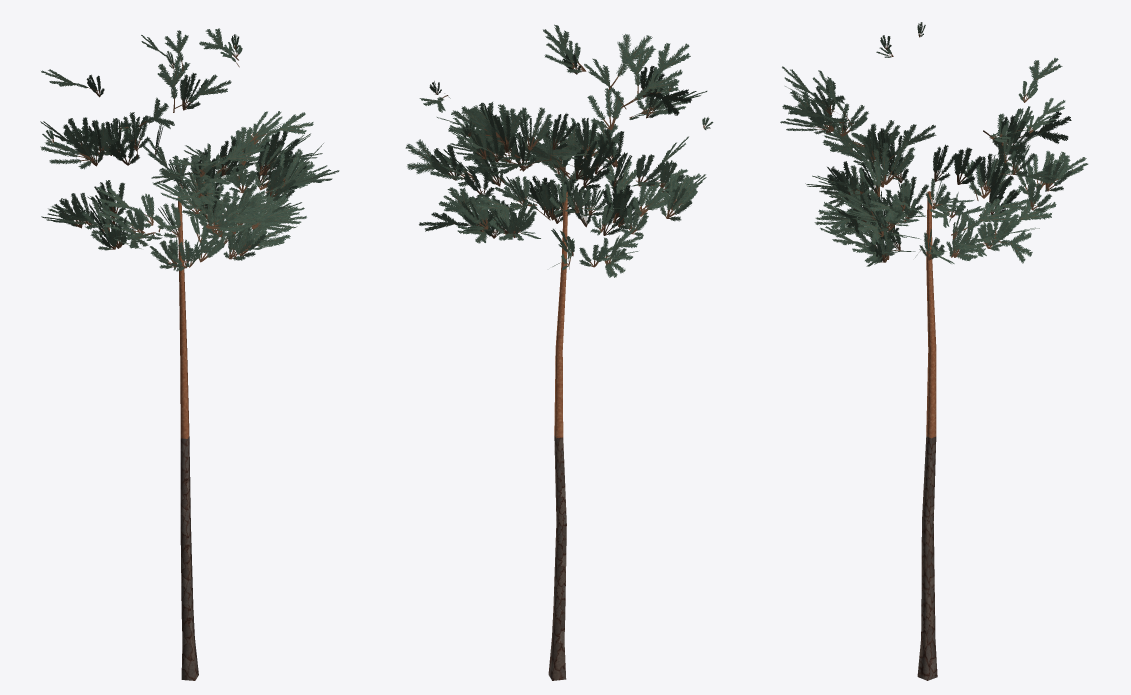
Rendered from pine_c_LOD2.fbx.
3 views of the same model, side by side, from view 1: azimuth 30°, elevation 25°; view 2: azimuth 150°, elevation 25°; view 3: azimuth 270°, elevation 25° (orthographic).
Parts seen in each view (by area): view 1: Pine_C_LOD2_Foliage, Pine_C_LOD2_Bark; view 2: Pine_C_LOD2_Foliage, Pine_C_LOD2_Bark; view 3: Pine_C_LOD2_Foliage, Pine_C_LOD2_Bark.
Part boxes in pixels (x1,y1,x2,y2): Pine_C_LOD2_Foliage: (40, 28, 339, 271); Pine_C_LOD2_Bark: (178, 197, 198, 680); Pine_C_LOD2_Foliage: (405, 24, 713, 277); Pine_C_LOD2_Bark: (548, 191, 567, 680); Pine_C_LOD2_Foliage: (780, 22, 1088, 266); Pine_C_LOD2_Bark: (917, 191, 937, 680).
Size of the model in its own units: 11.92 by 22.47 by 12.1.
Materials: 2 (2 with a texture image).
